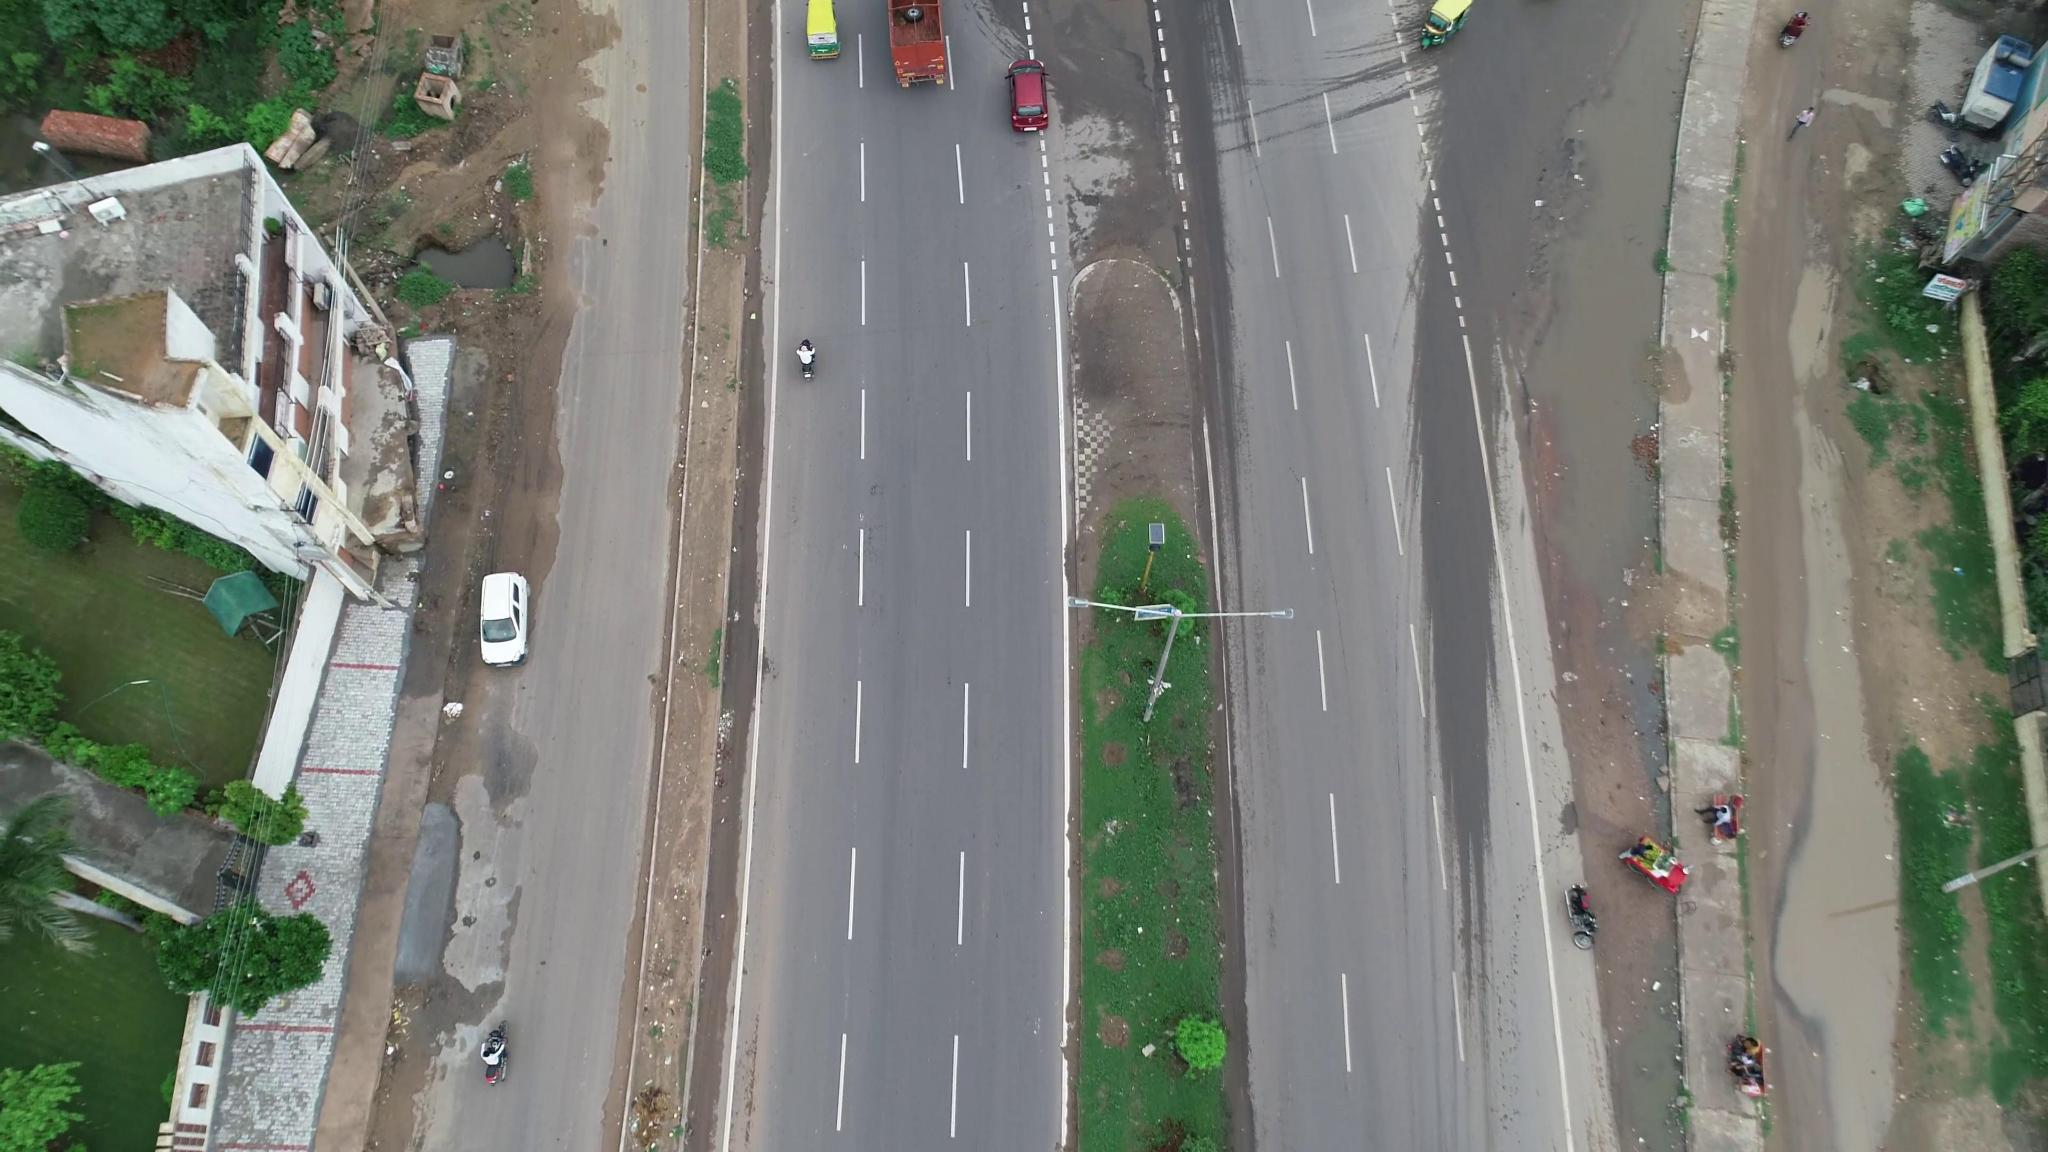Waterlogging: (1769, 661, 1905, 1087), (1530, 122, 1665, 537)
